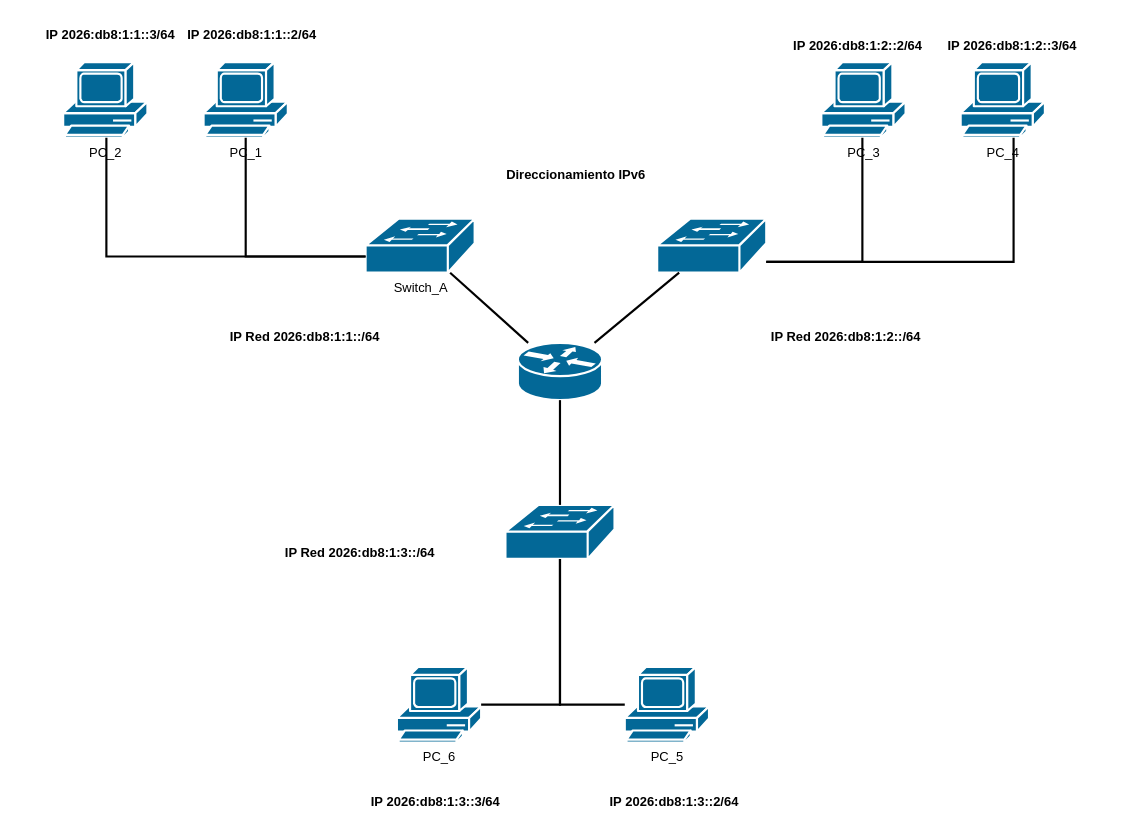
Some shapes in this 1122 by 836 pixel diagram are drawn without their labels. The box of each missing label's shape, as (x1, y1, x2, y2) in pixels:
R-CORE-IPV6: (516, 341, 603, 401)
Switch_B: (656, 217, 767, 273)
Switch_C: (504, 503, 615, 559)
